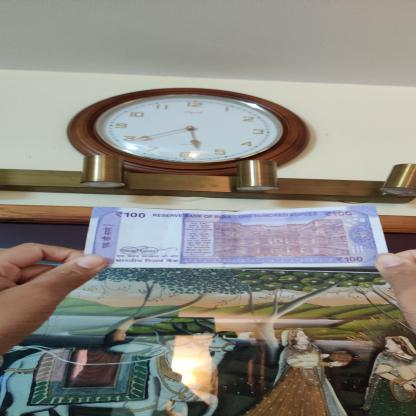New100Back: (86, 204, 394, 270)
